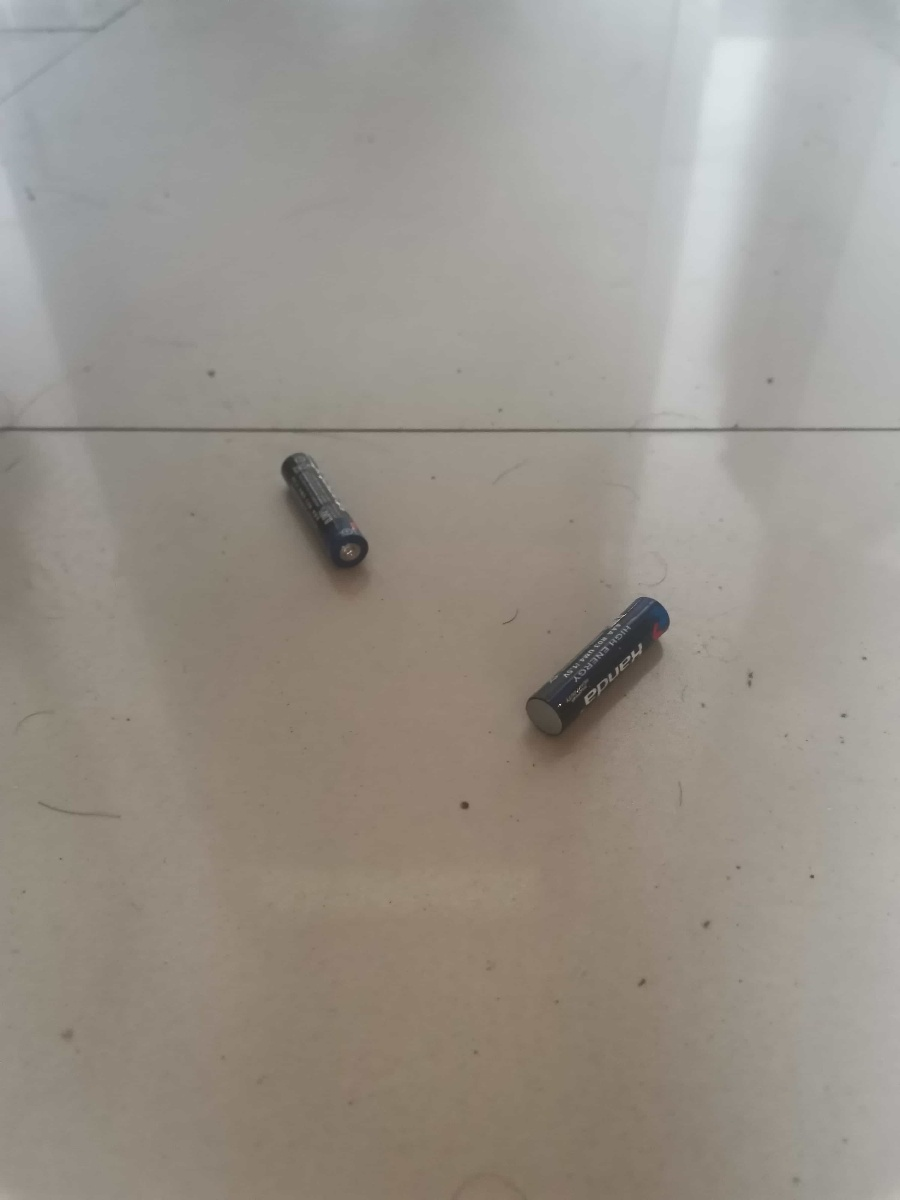battery: (518, 588, 679, 743), (273, 444, 381, 576)
